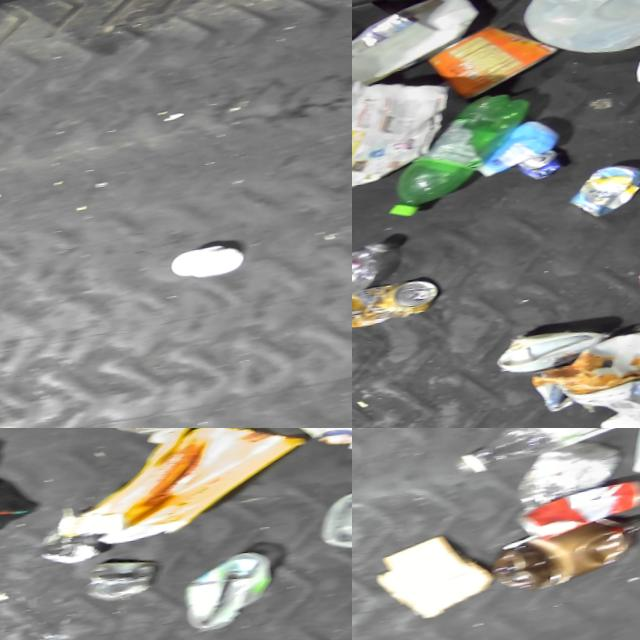can: (424, 18, 562, 108), (177, 555, 274, 639), (512, 487, 640, 546), (565, 165, 640, 227), (82, 559, 155, 608), (517, 153, 564, 187)
milk_jug: (352, 0, 485, 105), (519, 0, 640, 74), (493, 327, 608, 381)
non_white_jug: (47, 428, 311, 557)
plastic_bottle: (445, 428, 634, 484), (352, 241, 397, 340)
